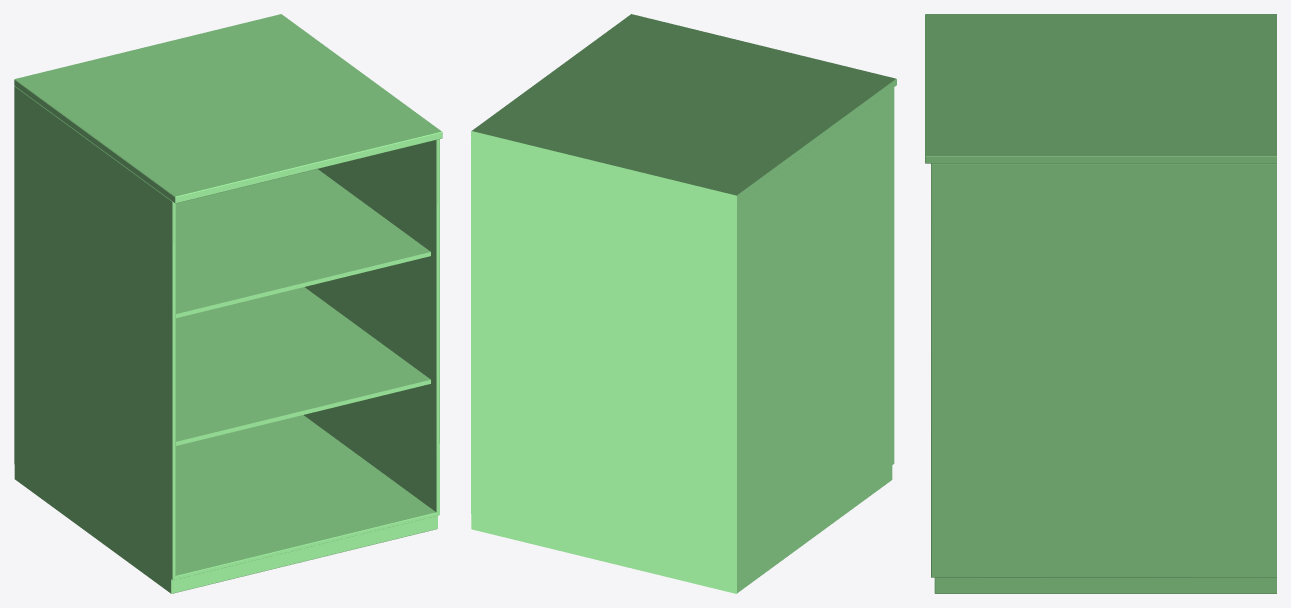
File: RFAIPP_Kitchen_Cabinet_Down.FBX
The picture shows the model from 3 angles, left to right: view 1: azimuth 30°, elevation 25°; view 2: azimuth 150°, elevation 25°; view 3: azimuth 270°, elevation 25°; orthographic projection. The views are drawn at different scales.
Visible parts, largest first — view 1: RFAIPP_Kitchen_Cabinet_Down; view 2: RFAIPP_Kitchen_Cabinet_Down; view 3: RFAIPP_Kitchen_Cabinet_Down.
Part boxes in pixels (x1,y1,x2,y2): RFAIPP_Kitchen_Cabinet_Down: (14, 14, 442, 593); RFAIPP_Kitchen_Cabinet_Down: (471, 14, 896, 593); RFAIPP_Kitchen_Cabinet_Down: (925, 14, 1276, 593).
Size of the model in its own units: 0.5998 by 0.8581 by 0.625.
